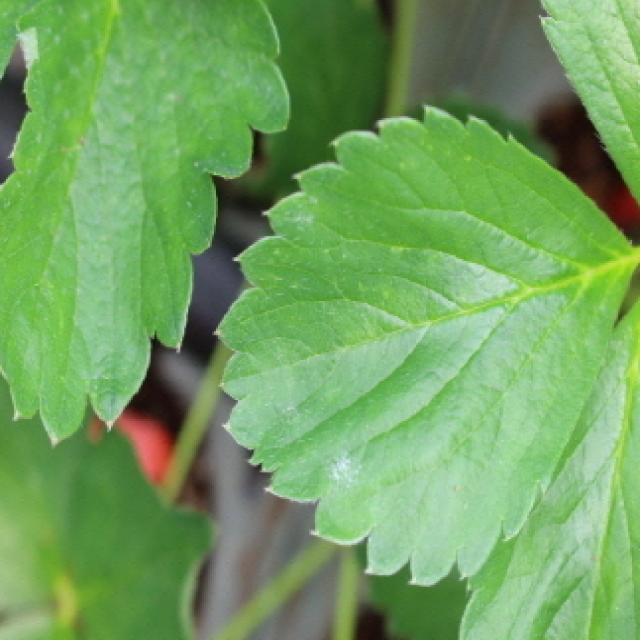Powdery Mildew Leaf: (211, 106, 640, 589), (0, 0, 292, 450)
